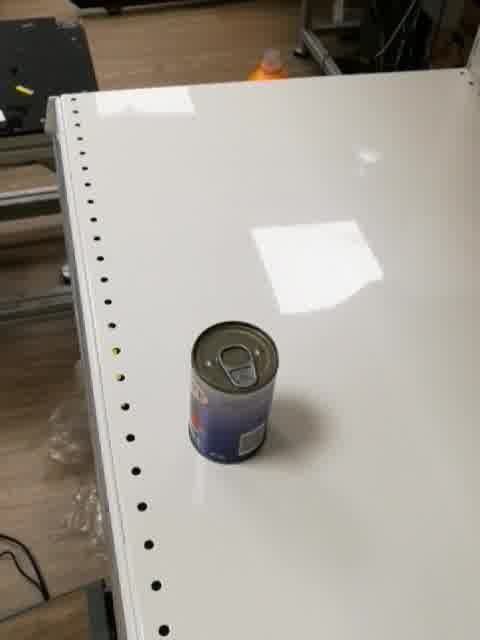sardine: (188, 320, 278, 465)
